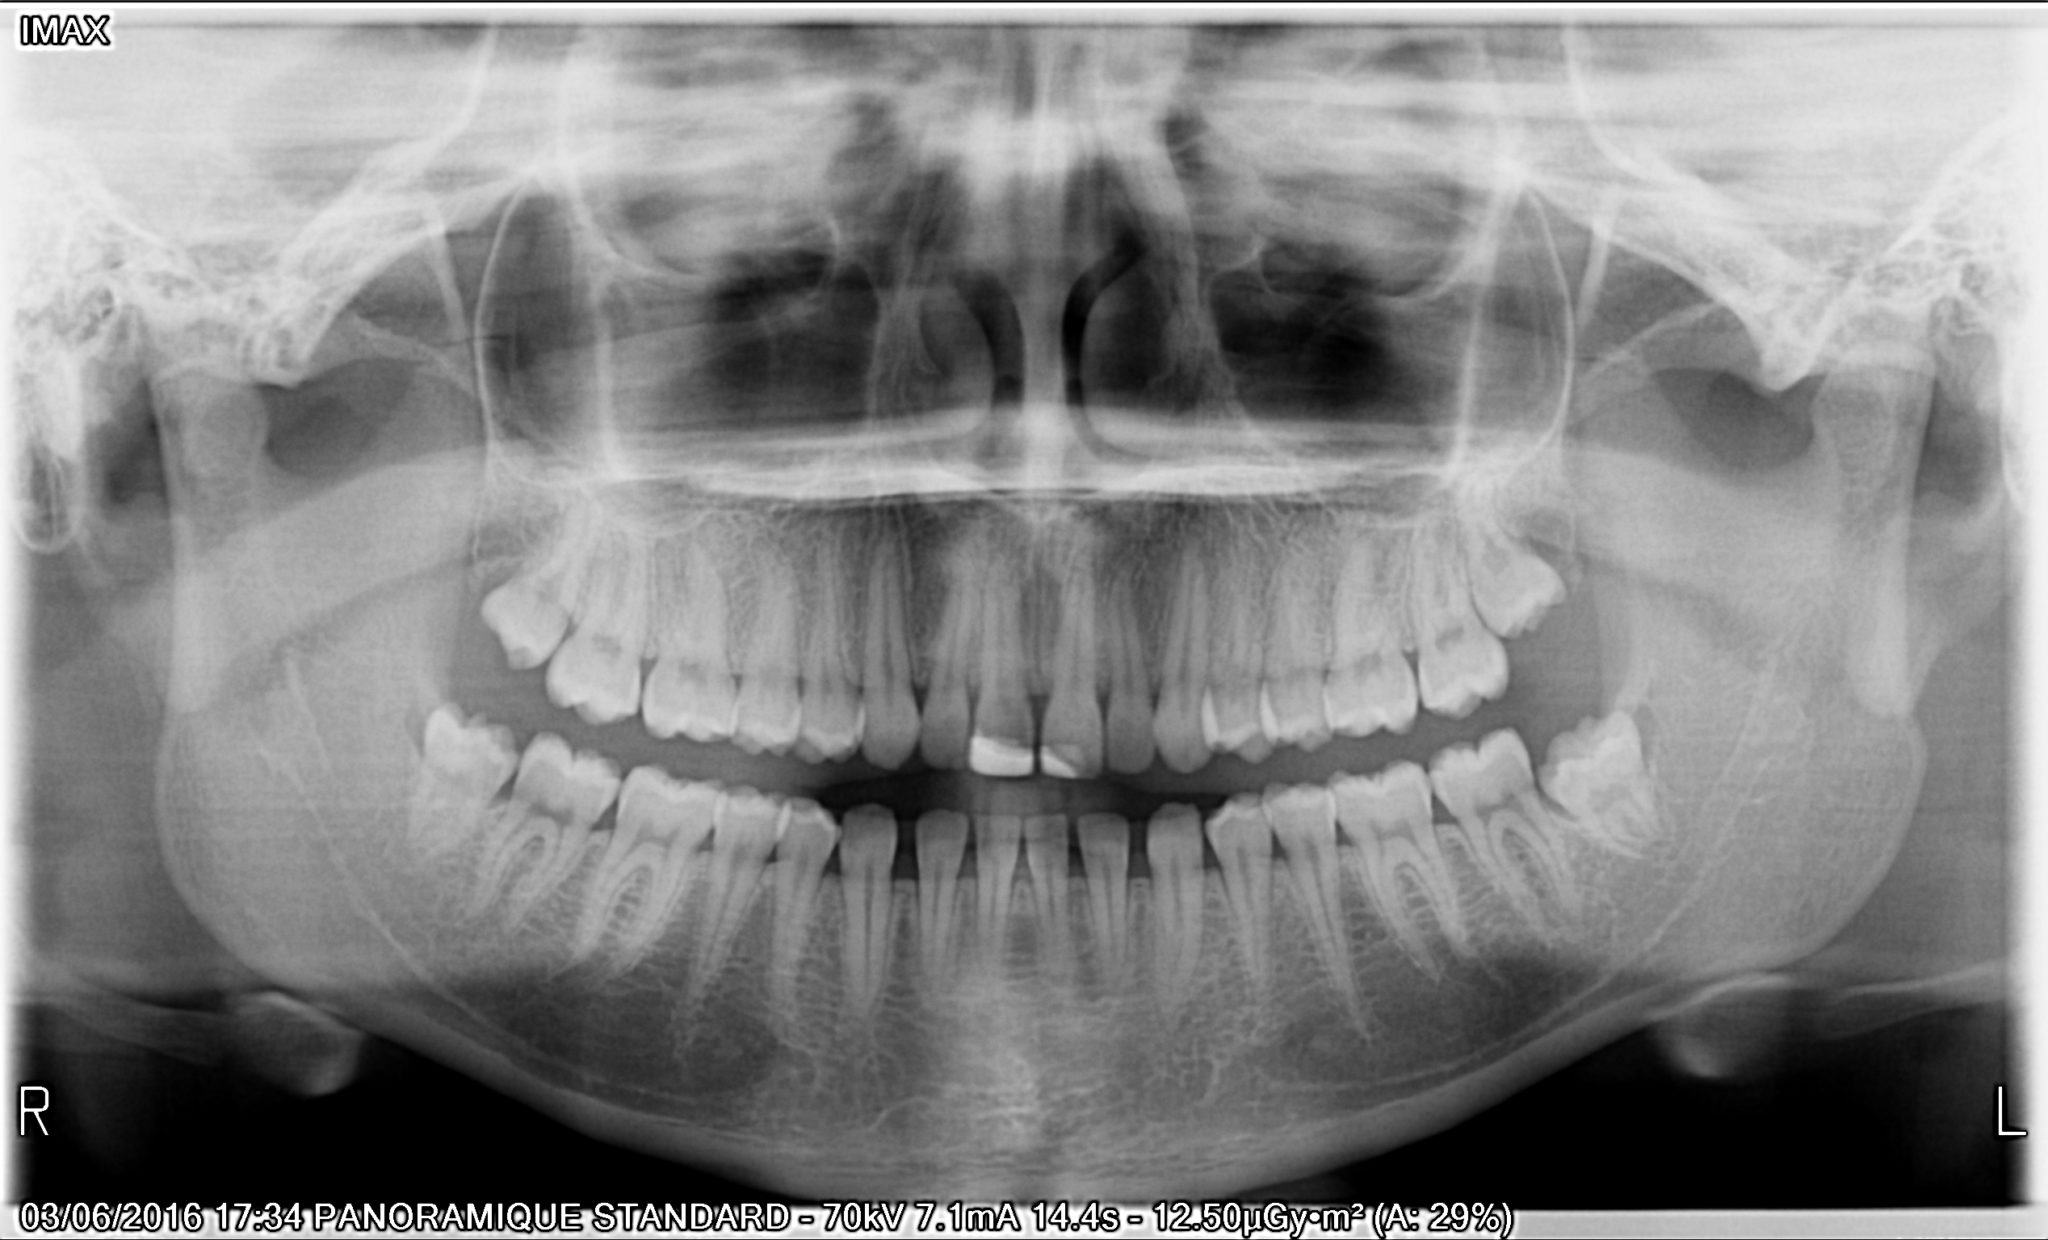canine: (859, 521, 922, 771), (834, 800, 901, 1013), (1138, 800, 1208, 1002), (1160, 541, 1217, 778)
incisor: (1037, 559, 1107, 779), (974, 548, 1039, 784), (916, 537, 976, 775), (1104, 551, 1159, 779), (1071, 807, 1134, 988), (911, 807, 968, 972), (1020, 810, 1074, 977), (974, 809, 1020, 974)
molar: (560, 760, 724, 971), (1423, 734, 1589, 936), (456, 737, 632, 926), (1331, 760, 1479, 980), (546, 483, 650, 730), (475, 493, 606, 674), (644, 507, 743, 738), (398, 692, 524, 872), (1412, 510, 1516, 717), (1532, 711, 1682, 845), (1325, 523, 1416, 738), (1461, 481, 1575, 643)
premolar: (1261, 774, 1360, 1032), (790, 491, 862, 765), (1202, 510, 1279, 768), (731, 474, 799, 756), (1260, 497, 1334, 752), (707, 765, 780, 988), (1202, 785, 1279, 996), (772, 785, 843, 1012)
